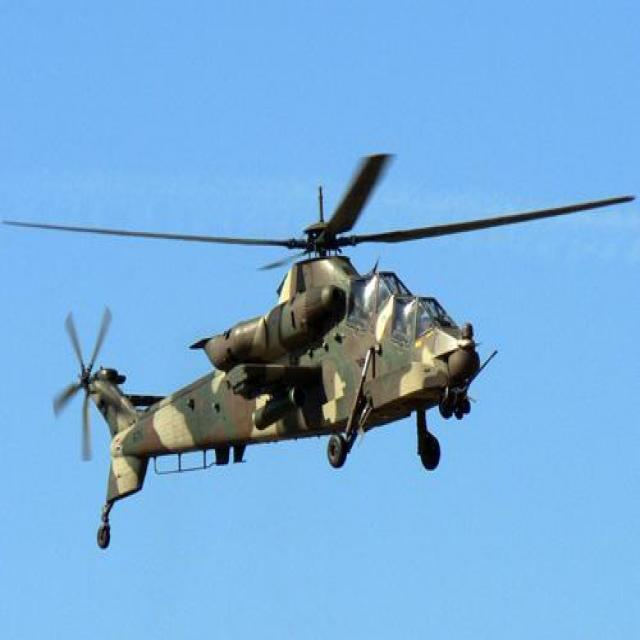MIL_HELO: (2, 142, 640, 567)
